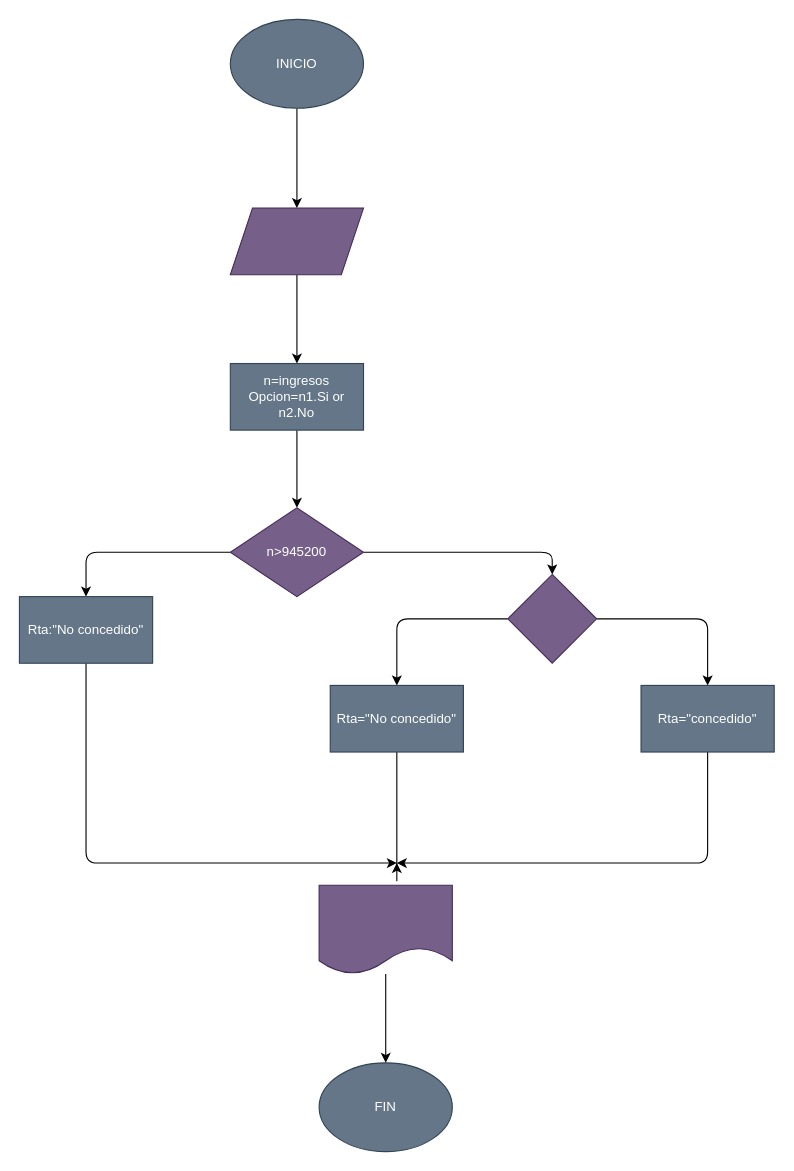
This 794x1171 diagram has some shape labels left out. The centre of each missing label's shape, as x and y in pixels:
n Opcion: the point at 296,241
Opcion>=2: the point at 552,618
Rta: the point at 385,929
